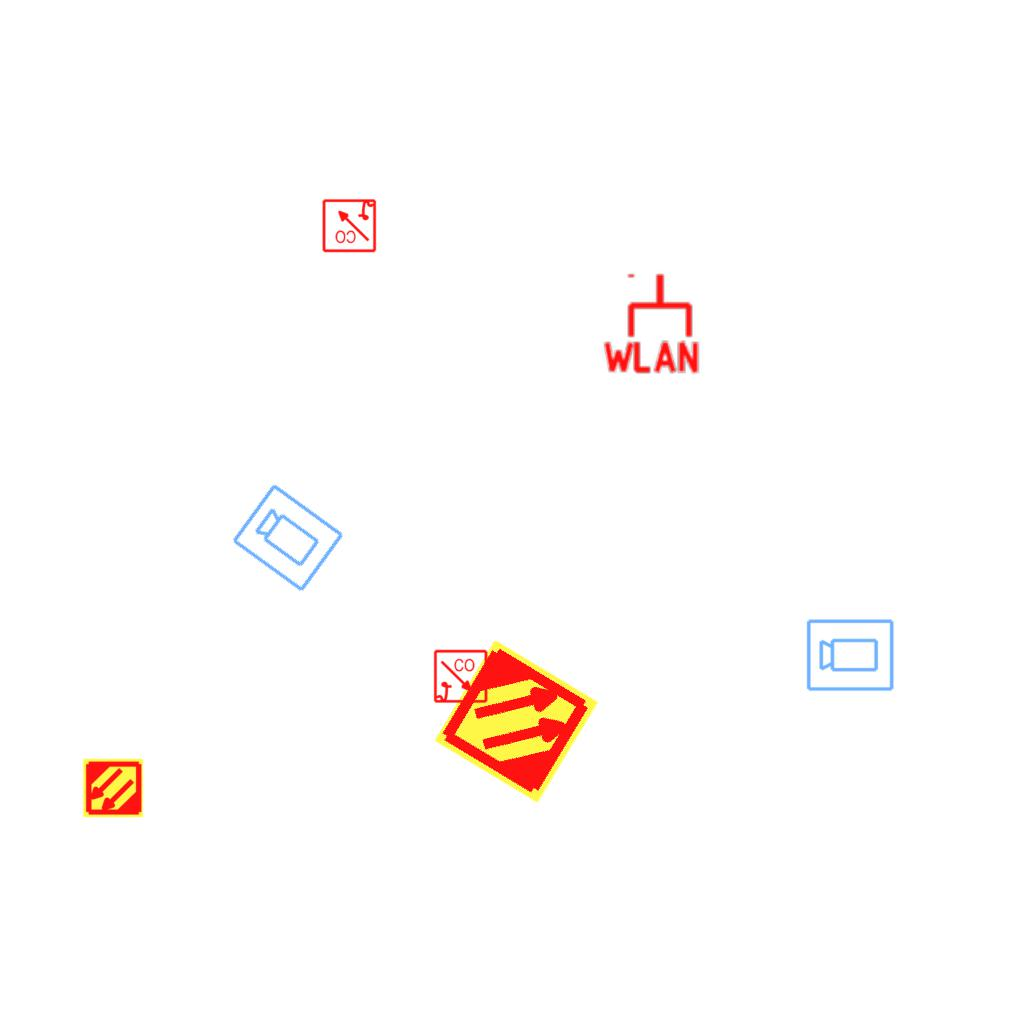ASR_Ansaugrauchmelder: (430, 635, 603, 808), (82, 757, 144, 819)
KFO_Kamera_mit_Festobjektiv: (229, 479, 348, 596), (805, 616, 896, 693)
ROA_Rauchmelder_optisch_mit_Signalgeber_(Sockelsirene): (321, 197, 377, 253), (433, 649, 489, 705)
WLAN: (599, 270, 703, 375)
